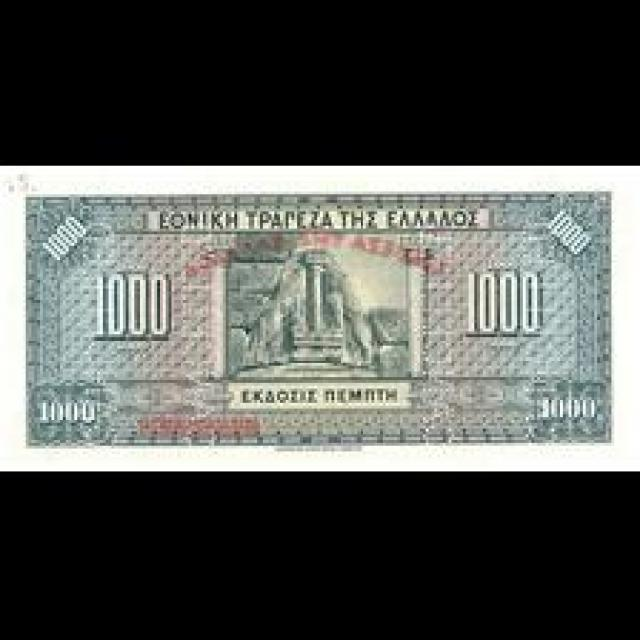banknote: (0, 166, 640, 472), (461, 256, 548, 344), (522, 362, 605, 445), (93, 266, 177, 346), (21, 377, 121, 444), (537, 183, 608, 269), (31, 202, 94, 272)
